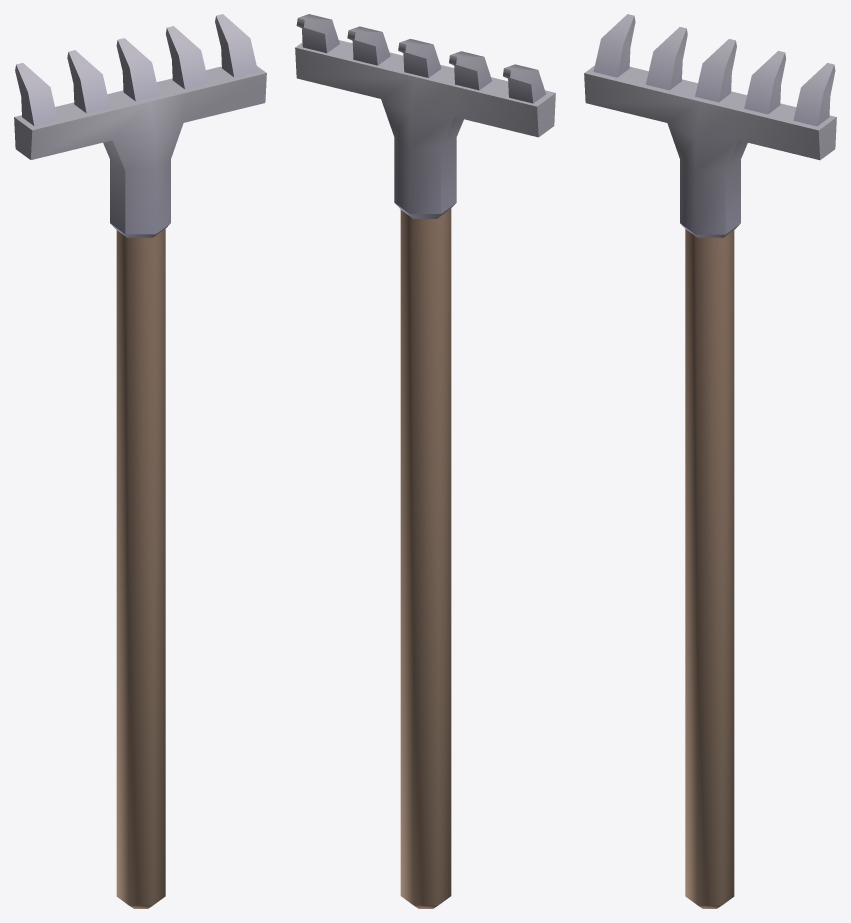
Rendered from tool-rake.glb.
3 views of the same model, side by side, from view 1: azimuth 30°, elevation 25°; view 2: azimuth 150°, elevation 25°; view 3: azimuth 330°, elevation 25° (orthographic). The views are drawn at different scales.
Visible parts, largest first — view 1: tool-rake; view 2: tool-rake; view 3: tool-rake.
Boxes of the visible parts, <box> form: tool-rake: <box>14,14,266,908</box>; tool-rake: <box>295,14,555,908</box>; tool-rake: <box>584,14,836,908</box>.
Size of the model in its own units: 0.2939 by 1.02 by 0.0802.
